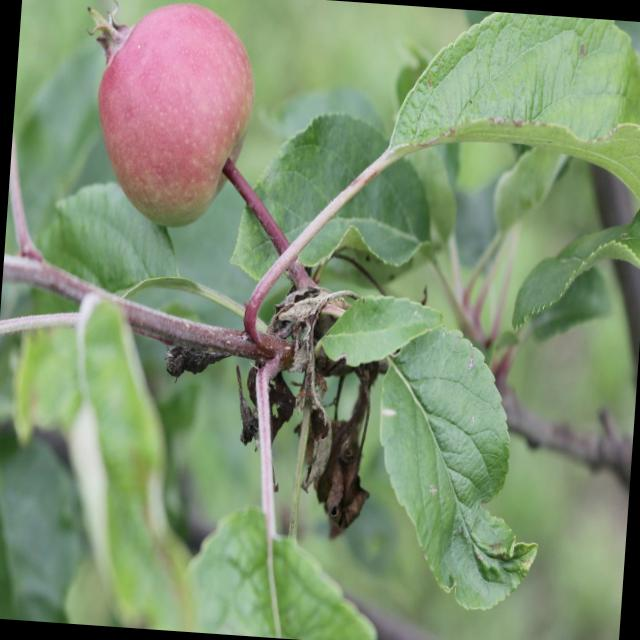-FireBlight-: (234, 284, 395, 545)
